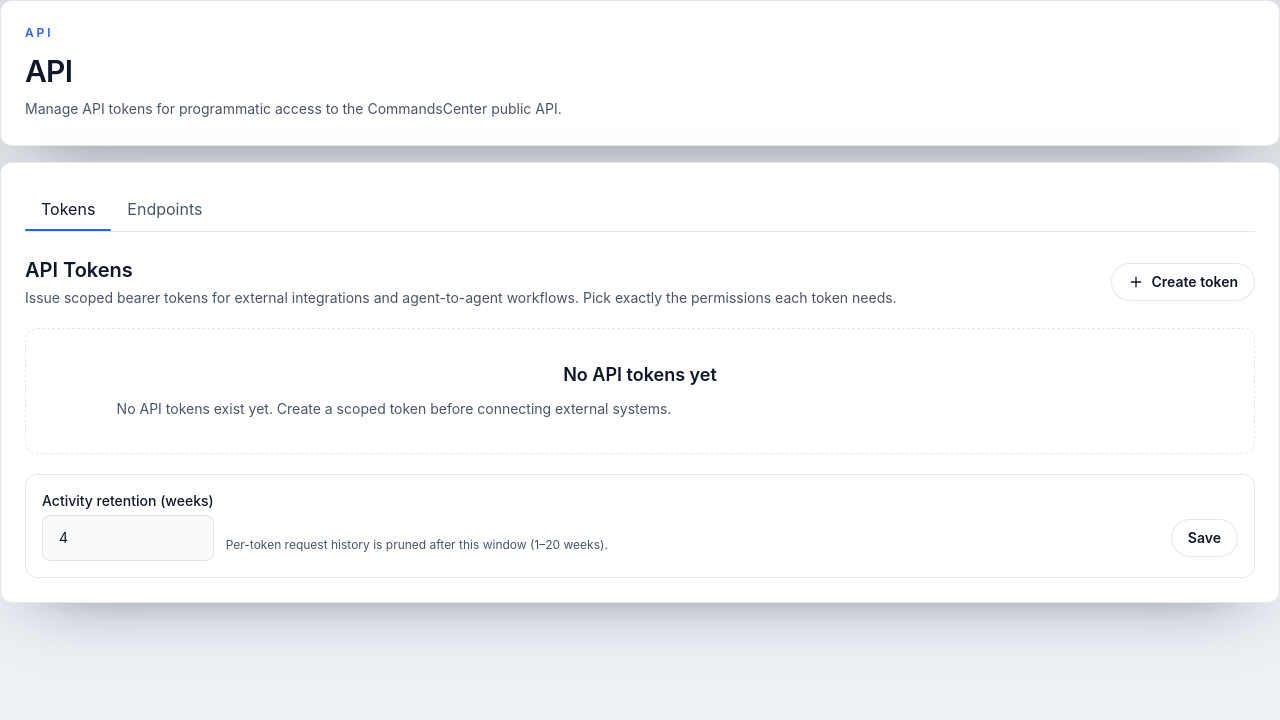
Test: ApiPage › validates the create form before submitting
The width and height of the screenshot is (1280, 720).
Expected: the text "No API tokens yet" is shown, [563,364,717,385]
Click the button "Create token" at (1183, 282), box [1110,263,1255,301]
(page scrolled)
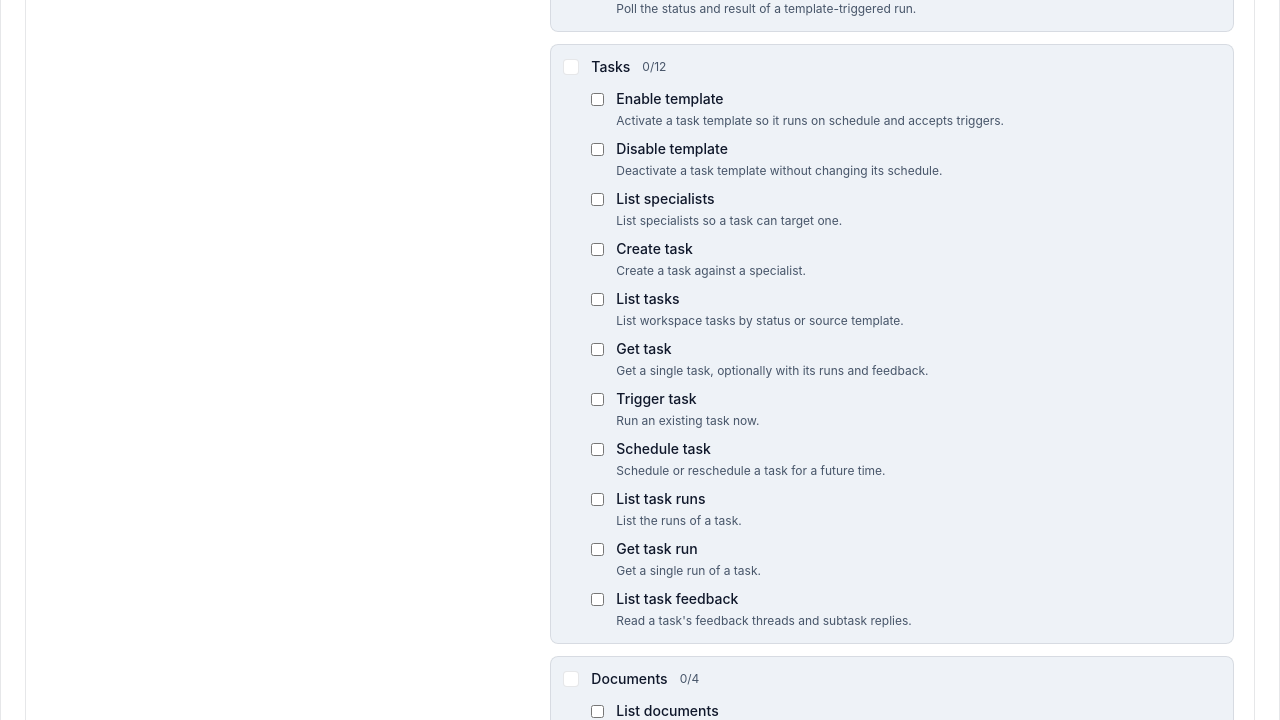
Submit the form with placeholder "Release automation"
(page scrolled)
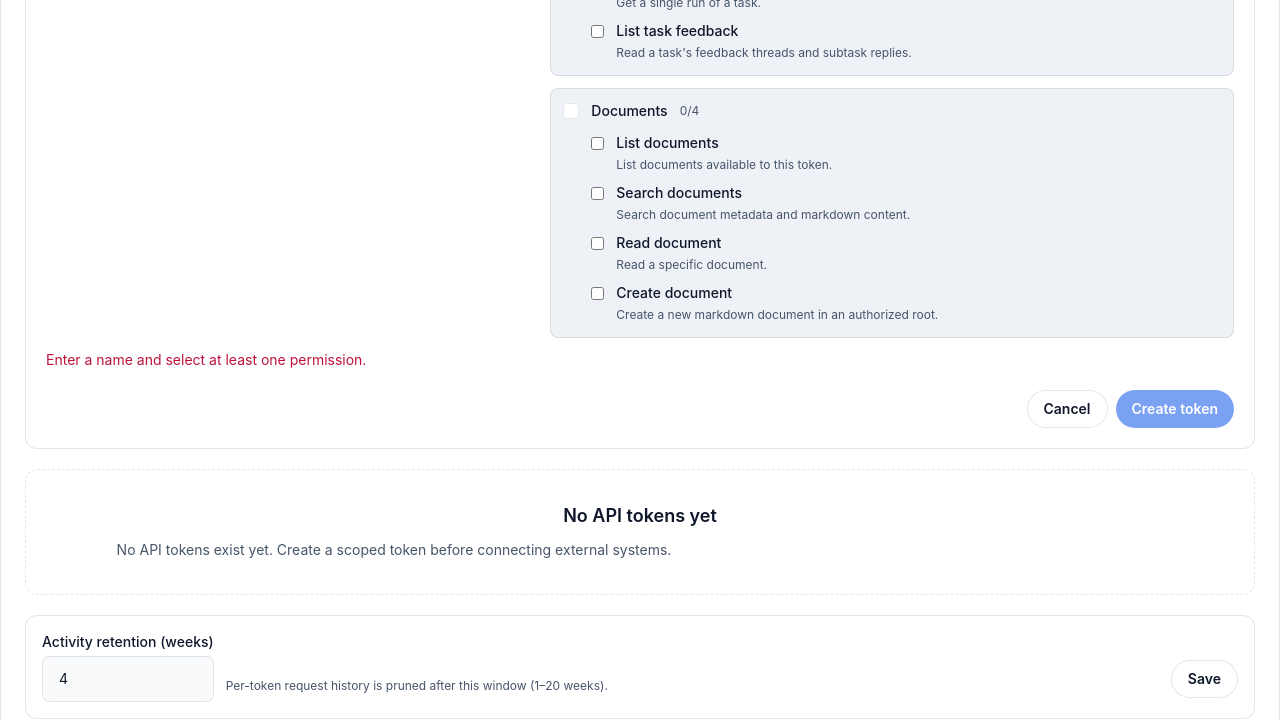
Now the text "Enter a name and select at least one permission." is shown, box [46,351,366,368]
